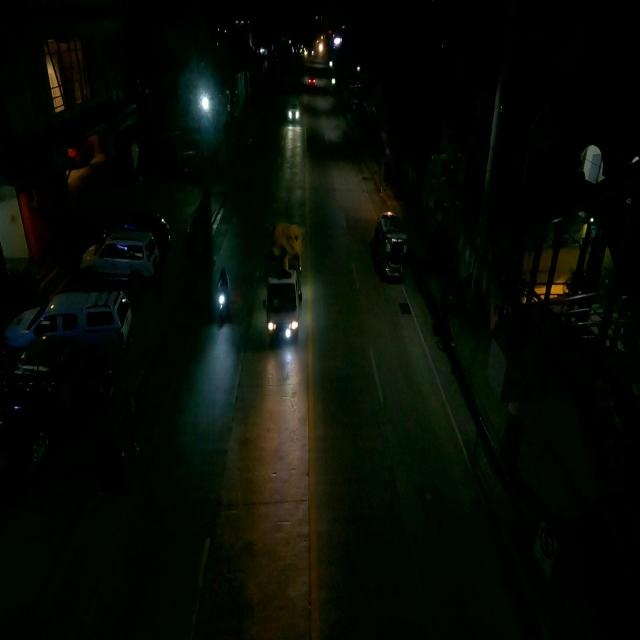Motorcycle: (214, 266, 231, 328)
Truck: (264, 217, 305, 341)
